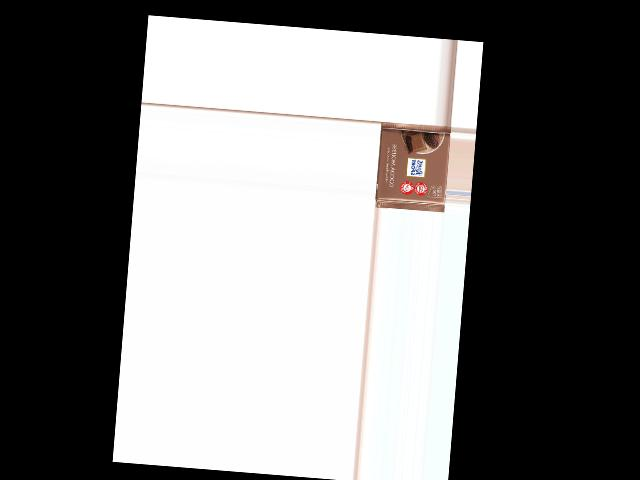chocolate: (373, 121, 450, 211)
